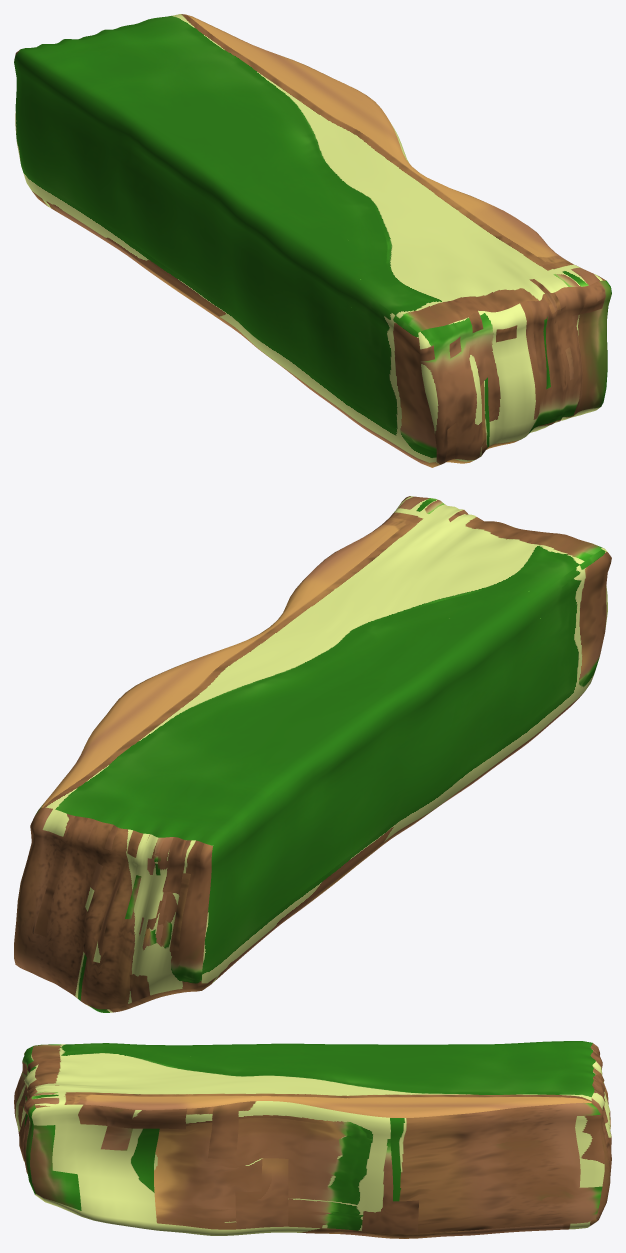
File: groun4.fbx
The picture shows the model from 3 angles, top to bottom: view 1: azimuth 30°, elevation 25°; view 2: azimuth 150°, elevation 25°; view 3: azimuth 270°, elevation 25°; orthographic projection. The views are drawn at different scales.
Parts seen in each view (by area): view 1: Plane; view 2: Plane; view 3: Plane.
Boxes of the visible parts, left/top/right/bottom form: Plane: left=14, top=14, right=611, bottom=467; Plane: left=14, top=496, right=611, bottom=1012; Plane: left=14, top=1041, right=611, bottom=1238.
Size of the model in its own units: 1322 by 1095 by 4152.
1 material, 1 textured.
